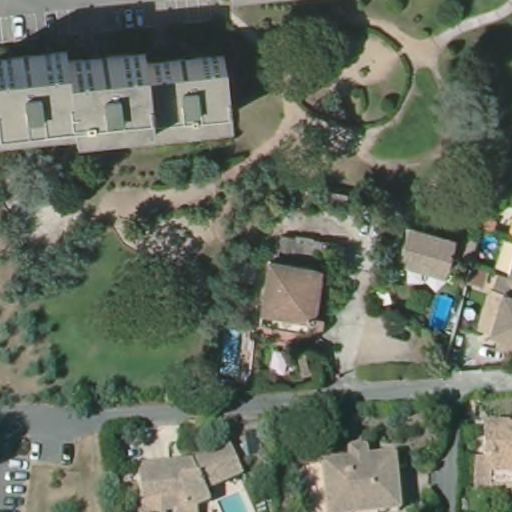pool: (426, 290, 457, 333), (222, 324, 247, 377), (213, 488, 252, 512), (478, 236, 501, 266)
